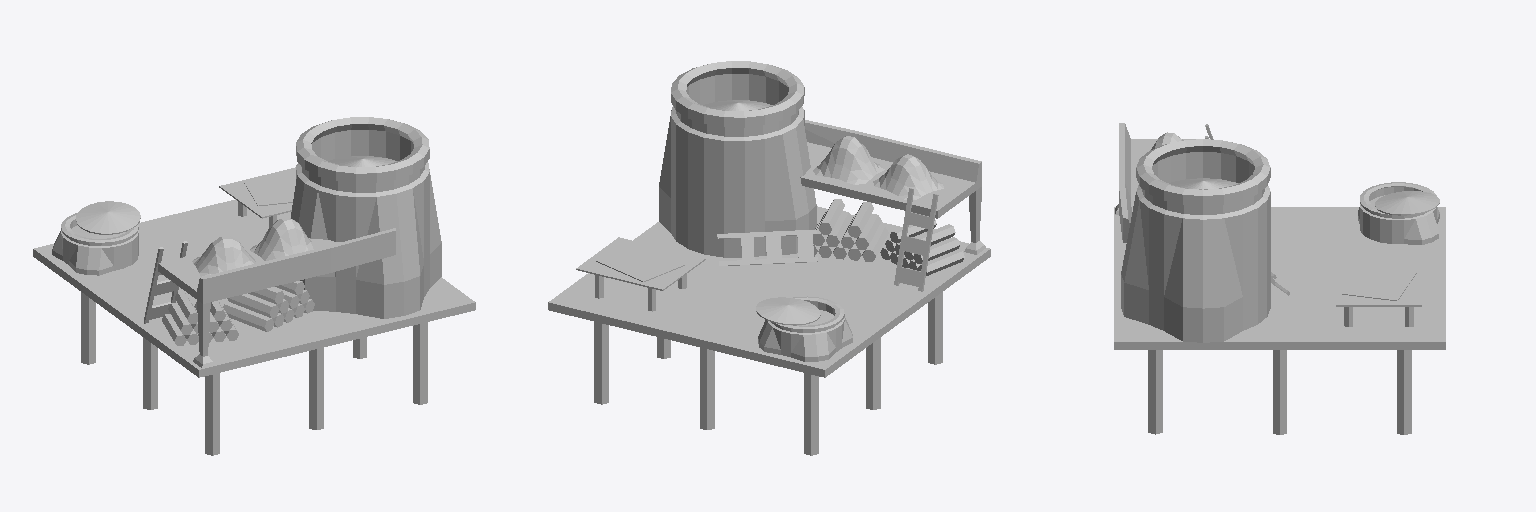
File: Test2ResourceSilo.obj
The picture shows the model from 3 angles: view 1: azimuth 30°, elevation 25°; view 2: azimuth 150°, elevation 25°; view 3: azimuth 270°, elevation 25°; orthographic projection.
Visible parts, largest first — view 1: ResourceCenter1; view 2: ResourceCenter1; view 3: ResourceCenter1.
Part boxes in pixels (left/top/right/bottom): ResourceCenter1: left=33, top=117, right=475, bottom=455; ResourceCenter1: left=548, top=61, right=990, bottom=455; ResourceCenter1: left=1114, top=123, right=1445, bottom=434.
Bounding box in the file's own units: 10.61 × 9.06 × 10.88.